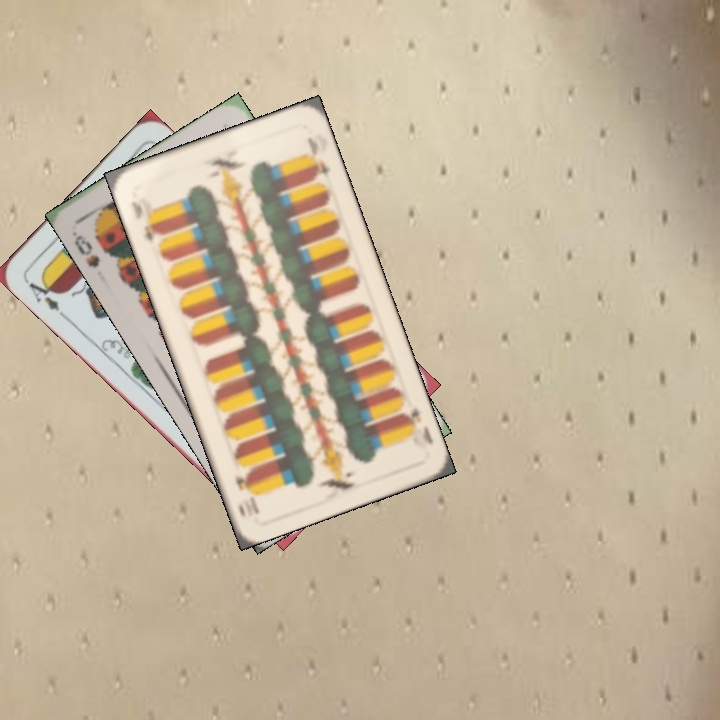E10: (397, 403, 436, 447), (127, 197, 163, 244)
EA: (21, 273, 69, 321)
S8: (67, 226, 103, 271)
